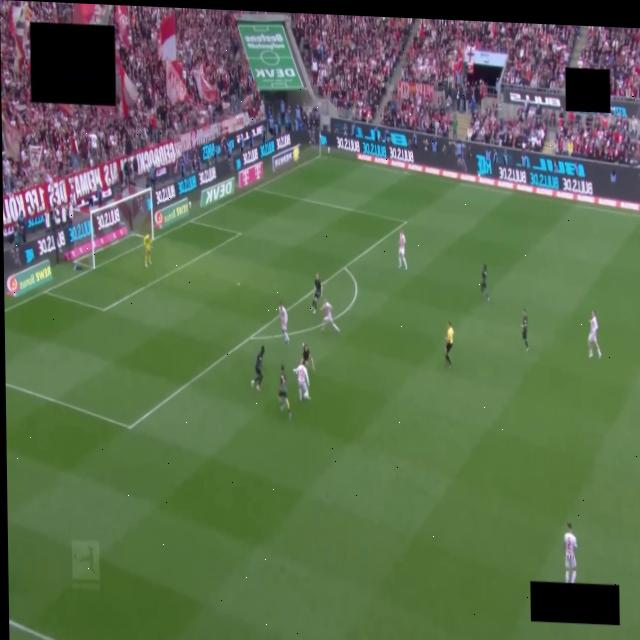player: (564, 523, 576, 583), (250, 346, 264, 391), (293, 361, 309, 400), (279, 364, 290, 419), (320, 301, 339, 332), (588, 311, 600, 357), (278, 301, 289, 344), (310, 275, 321, 313), (521, 308, 529, 351), (302, 343, 314, 370), (398, 232, 406, 270), (480, 263, 488, 301), (143, 233, 151, 266)
referee: (445, 323, 453, 368)
